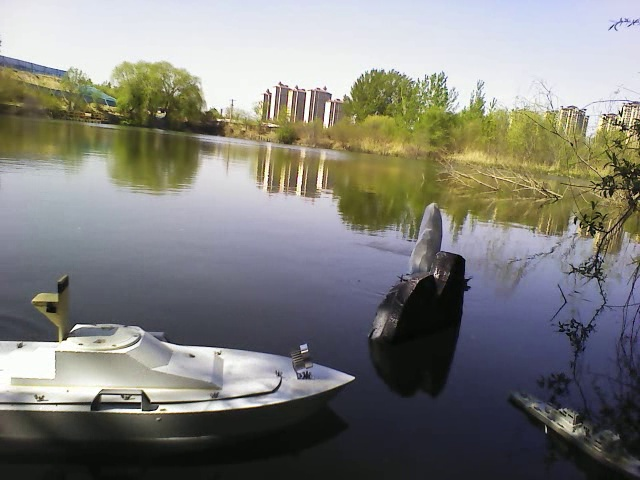boat: (3, 323, 360, 453)
iceberg: (407, 198, 450, 271)
rock: (366, 249, 476, 342)
warship: (504, 385, 637, 472)
